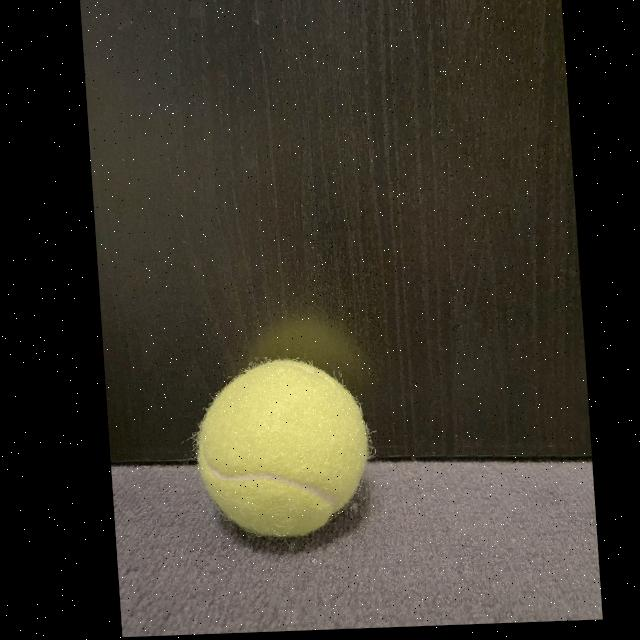Tennisball: (197, 359, 368, 537)
